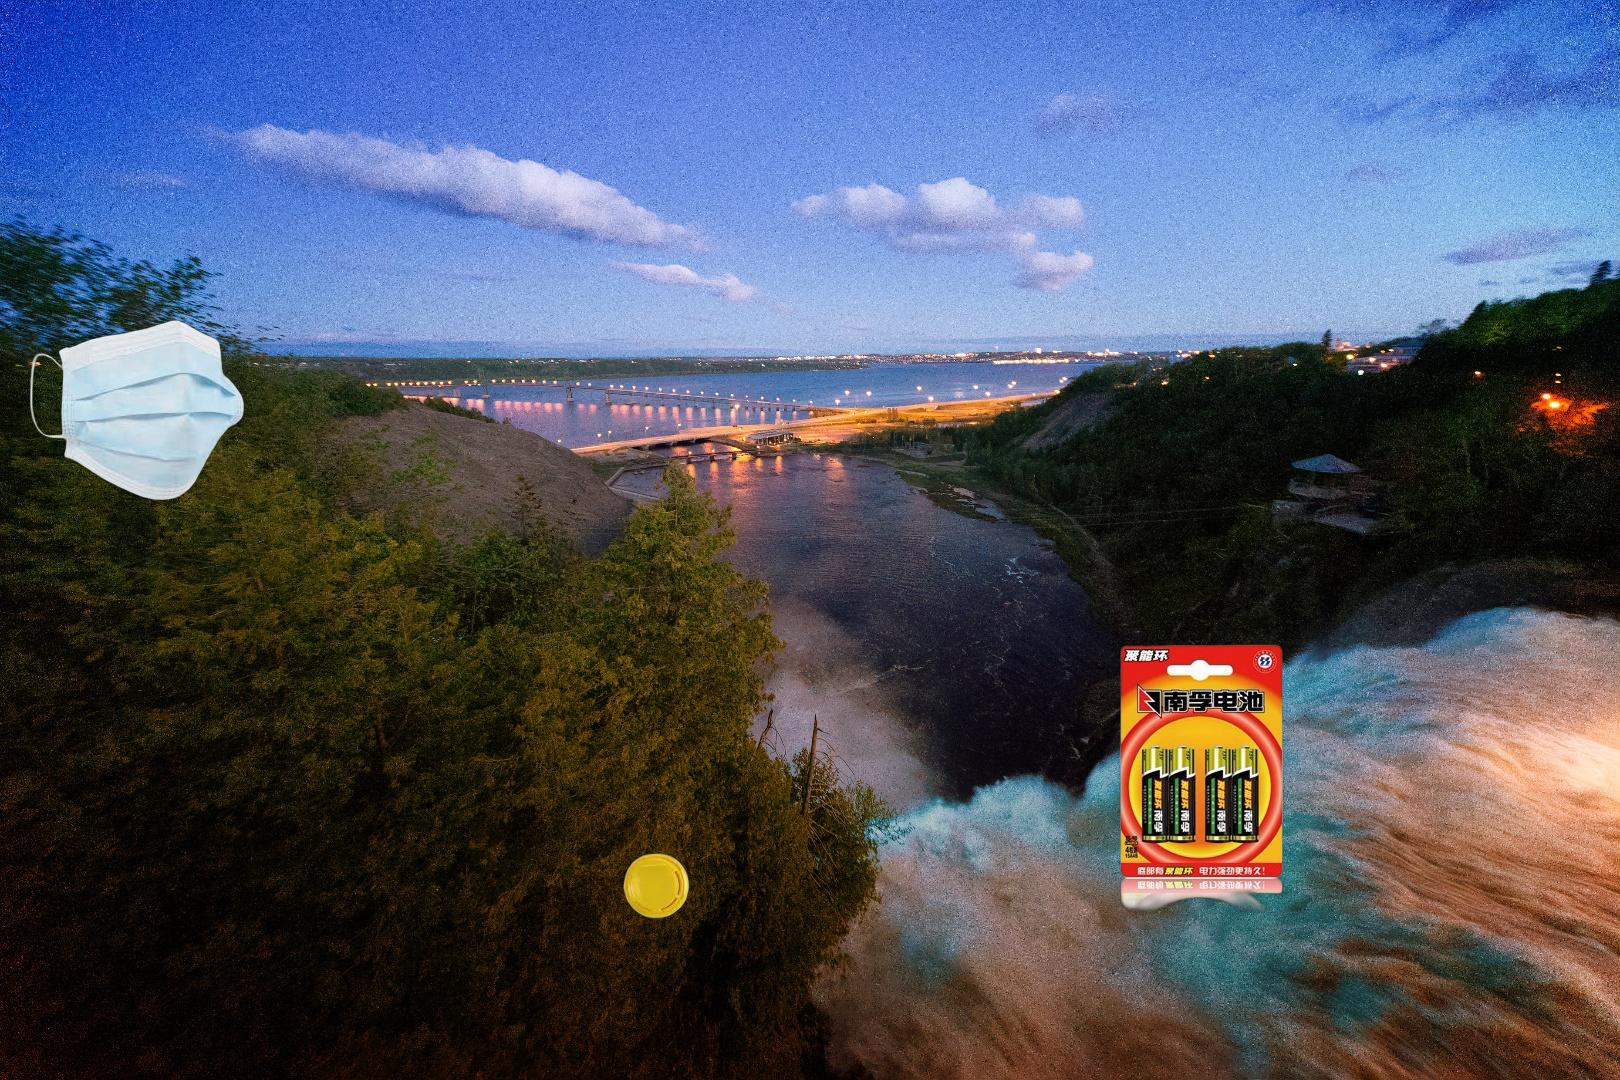battery: (1119, 622, 1363, 946)
trash: (27, 317, 247, 503), (621, 850, 692, 921)
